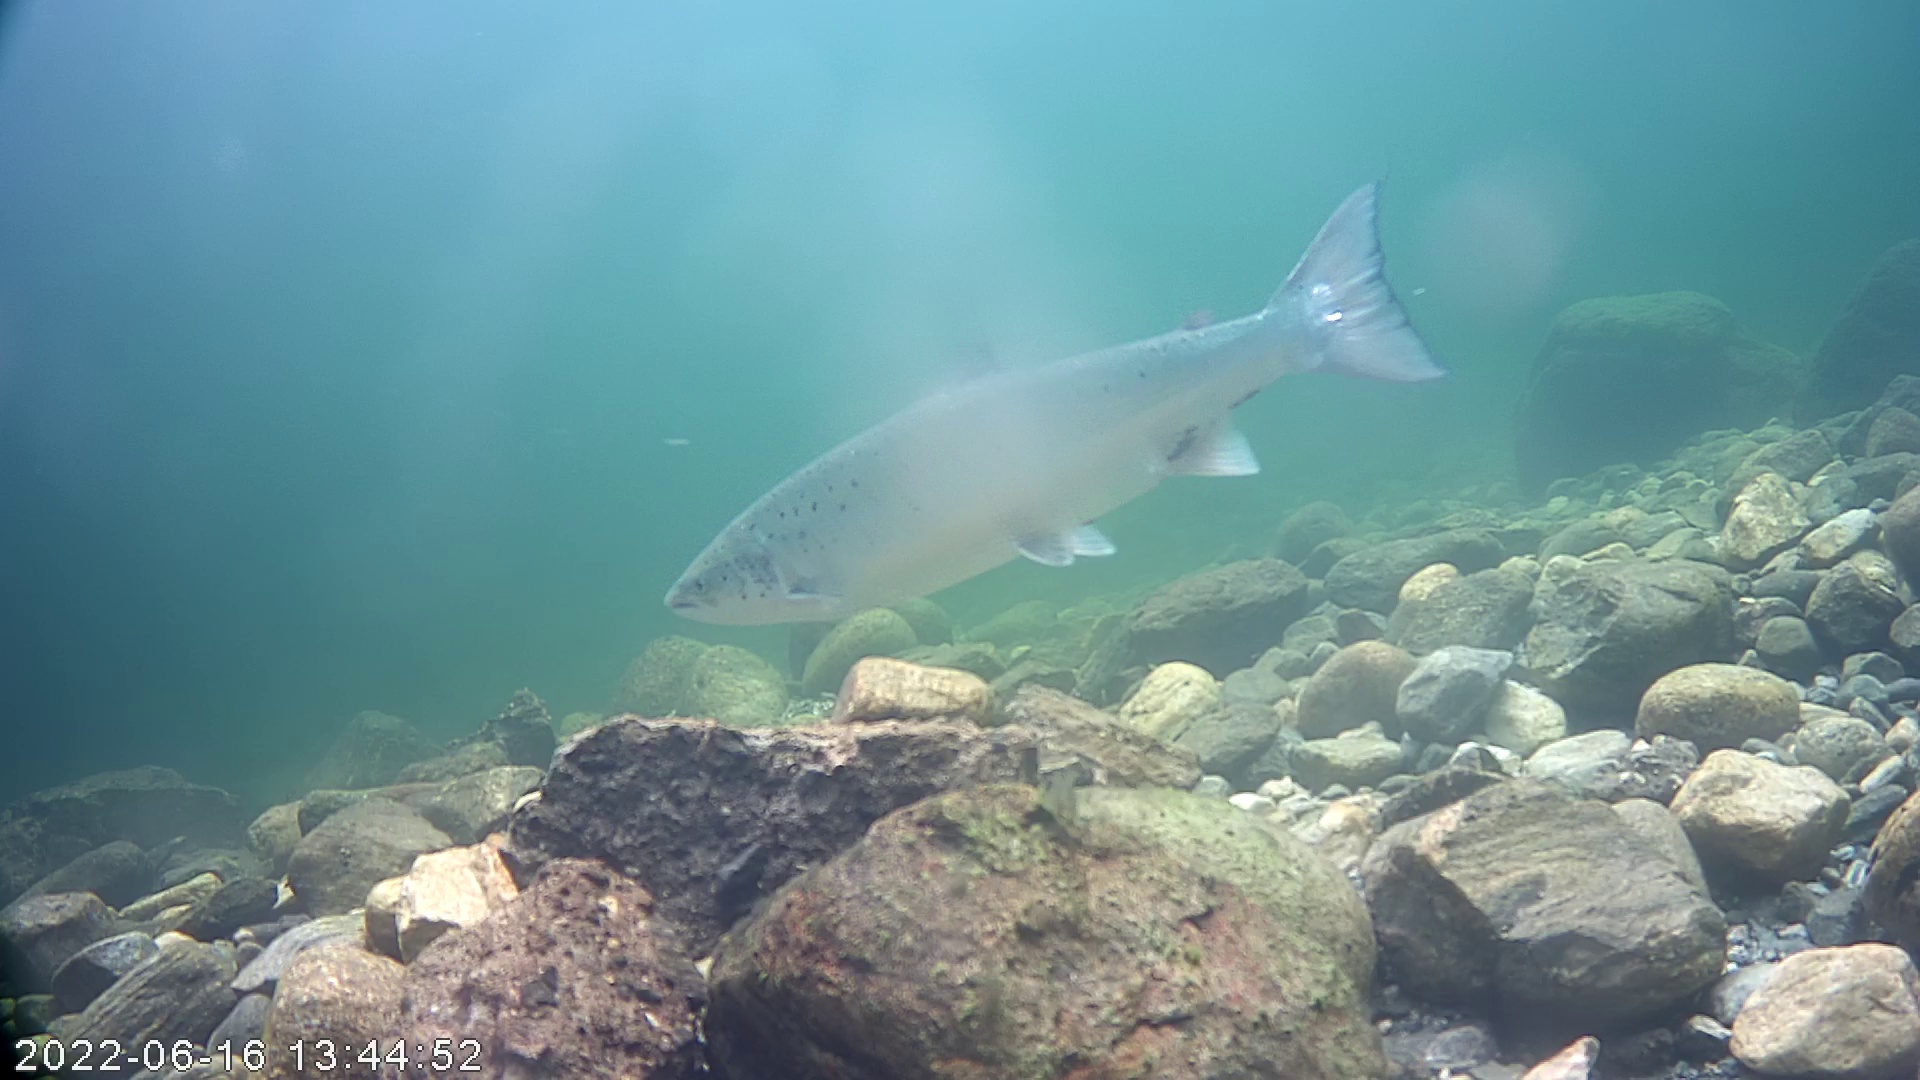salmon: (661, 175, 1447, 629)
